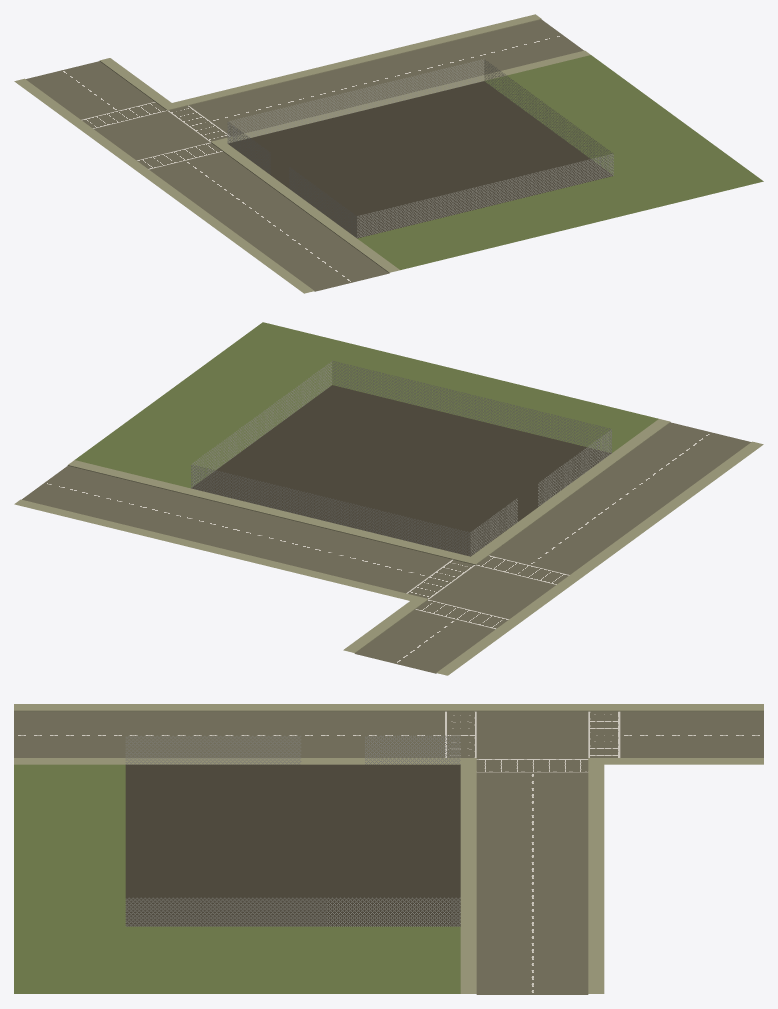
File: corner.gltf
3 views of the same model, one above another, from view 1: azimuth 30°, elevation 25°; view 2: azimuth 150°, elevation 25°; view 3: azimuth 270°, elevation 25° (orthographic). The views are drawn at different scales.
Visible parts, largest first — view 1: Corner-col, Street-col; view 2: Corner-col, Street-col; view 3: Corner-col, Street-col.
Boxes of the visible parts, left/top/right/bottom form: Corner-col: left=227, top=55, right=763, bottom=269; Street-col: left=14, top=14, right=590, bottom=293; Corner-col: left=75, top=322, right=658, bottom=556; Street-col: left=14, top=419, right=763, bottom=675; Corner-col: left=14, top=735, right=460, bottom=993; Street-col: left=14, top=704, right=763, bottom=994.
Size of the model in its own units: 43 by 2.06 by 47.
Materials: 1 (1 with a texture image).
